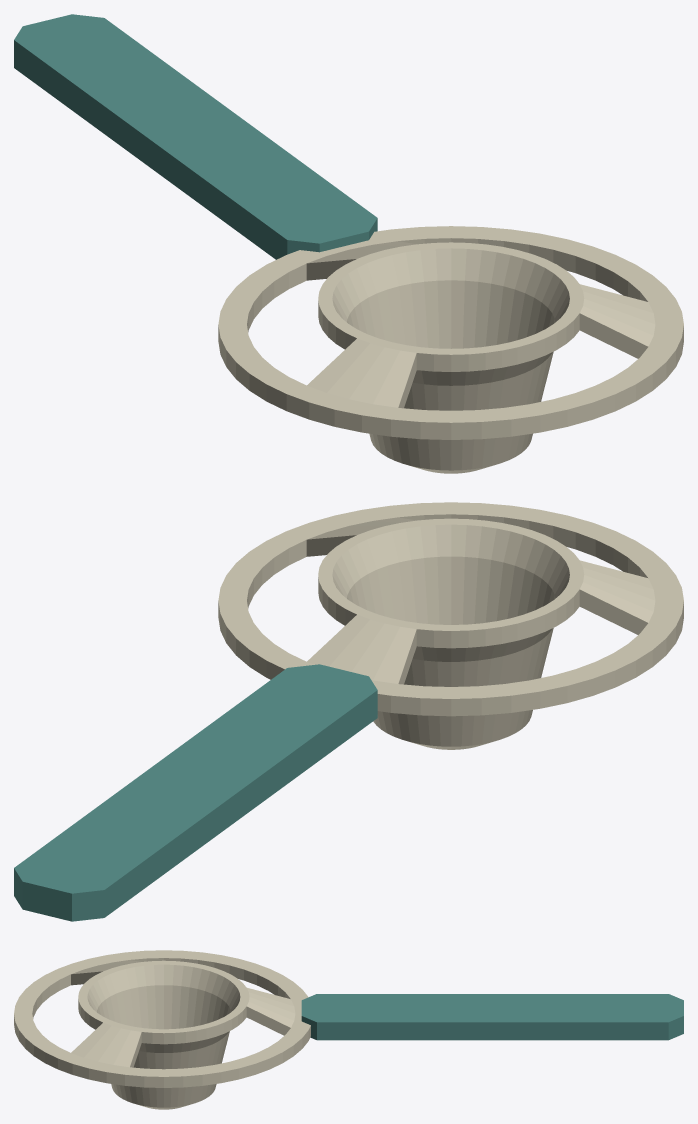
The picture shows the model from 3 angles, top to bottom: view 1: azimuth 30°, elevation 25°; view 2: azimuth 150°, elevation 25°; view 3: azimuth 270°, elevation 25°; orthographic projection. The views are drawn at different scales.
Parts seen in each view (by area): view 1: WholeDeepCupThreeRadialArmsAndOpenOuterAnnulus, WholeLongRoundedPaddleHandle; view 2: WholeDeepCupThreeRadialArmsAndOpenOuterAnnulus, WholeLongRoundedPaddleHandle; view 3: WholeDeepCupThreeRadialArmsAndOpenOuterAnnulus, WholeLongRoundedPaddleHandle.
Boxes of the visible parts, x1=… form: WholeDeepCupThreeRadialArmsAndOpenOuterAnnulus: x1=218, y1=226, x2=683, y2=473; WholeLongRoundedPaddleHandle: x1=14, y1=14, x2=377, y2=259; WholeDeepCupThreeRadialArmsAndOpenOuterAnnulus: x1=218, y1=502, x2=683, y2=749; WholeLongRoundedPaddleHandle: x1=14, y1=664, x2=377, y2=921; WholeDeepCupThreeRadialArmsAndOpenOuterAnnulus: x1=14, y1=950, x2=310, y2=1109; WholeLongRoundedPaddleHandle: x1=301, y1=994, x2=683, y2=1040.
Bounding box in the file's own units: 0.098 × 0.036 × 0.219.
